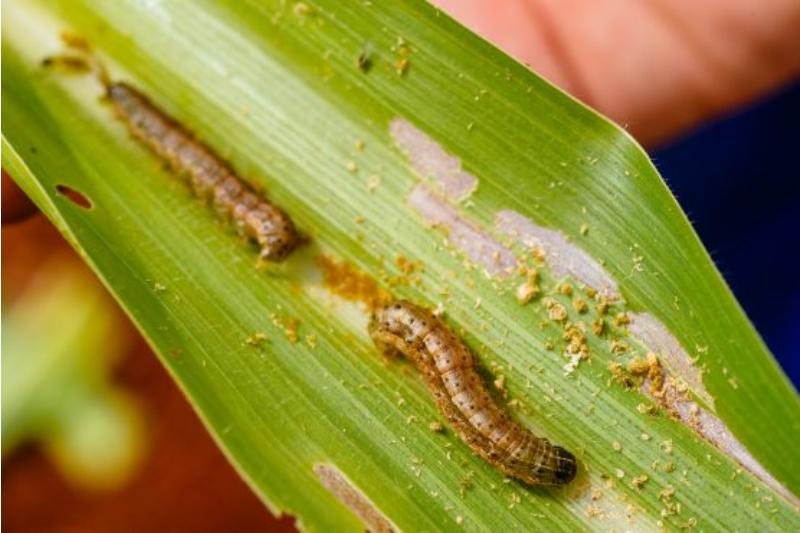fall-armyworm: (368, 301, 579, 488), (108, 83, 306, 265)
